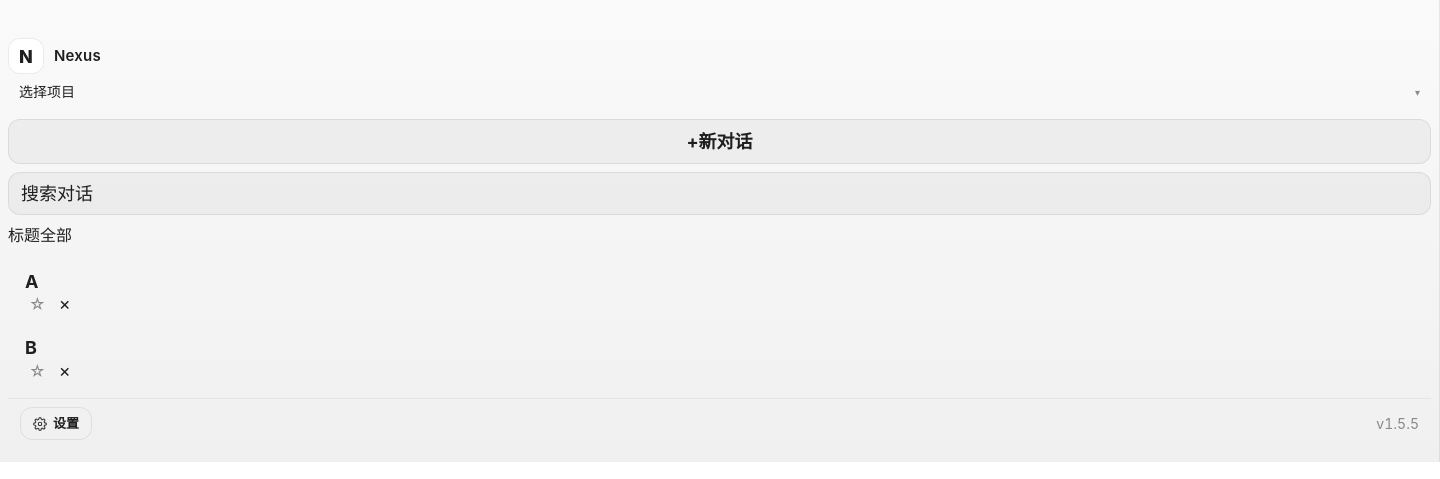
Test: Sidebar 搜索 + 重命名(第九轮 UI 重设计) › 清空查询 → 恢复全列表
In the search field with placeholder "搜索对话": (720, 194) [8,172,1431,215], type "A"
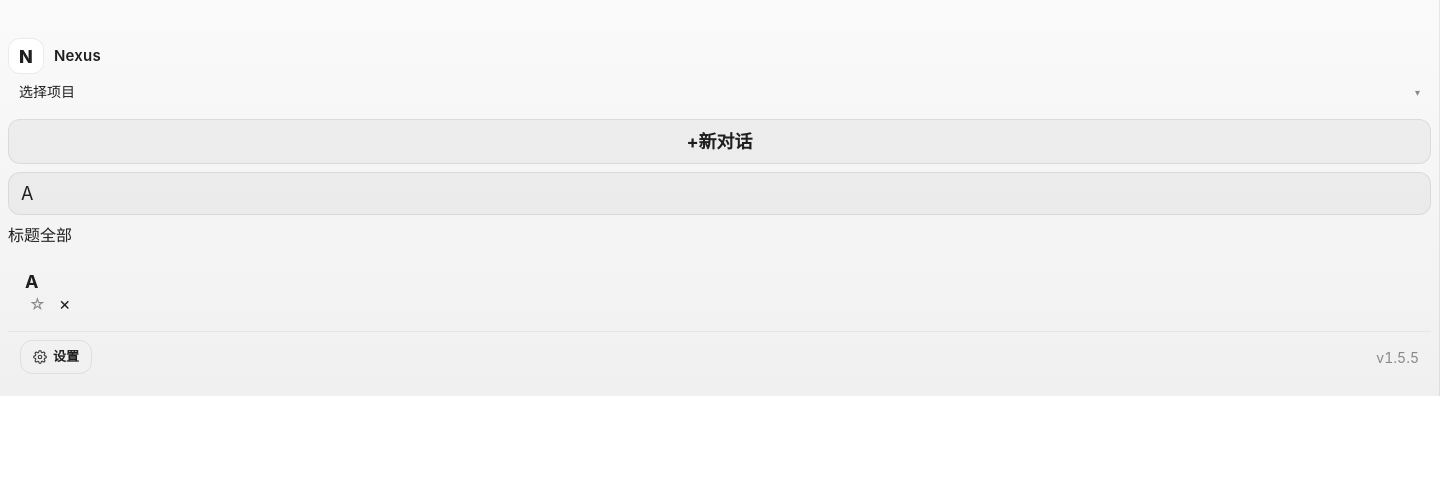
Check: the number of buttons with class "task-item" is 1, box [25,271,76,315]
Clear the search field named "搜索对话": (720, 194) [8,172,1431,215]
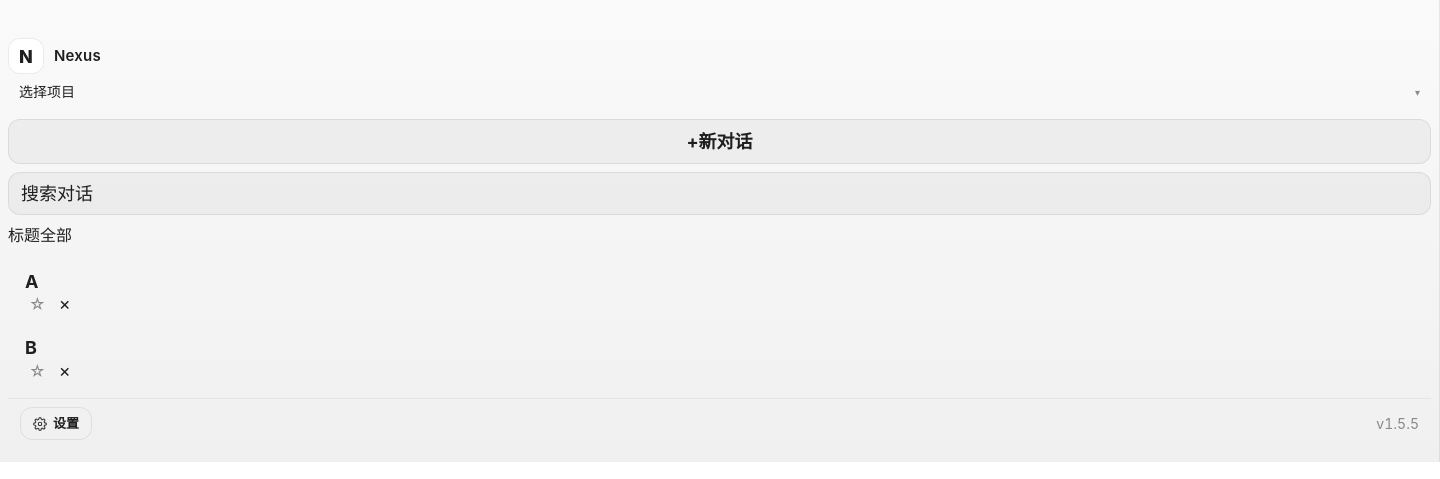
Check: the number of buttons with class "task-item" is 2, box [25,271,76,315]; [25,337,76,382]
